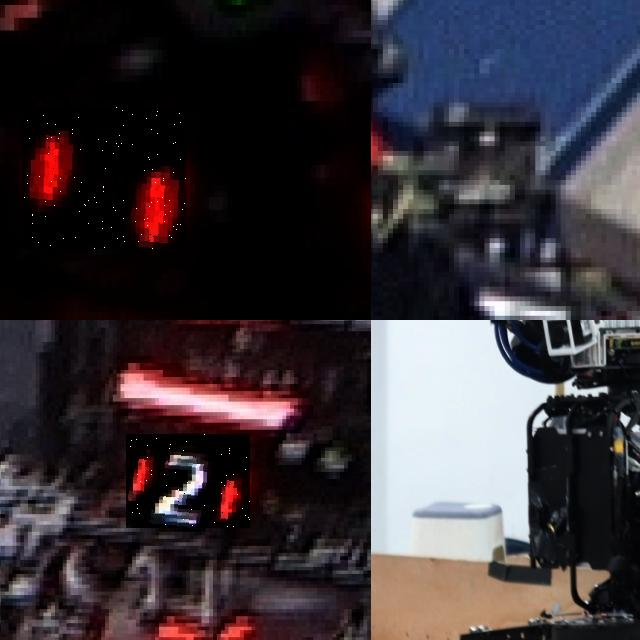R2: (126, 434, 250, 528)
R3: (23, 107, 186, 249)
